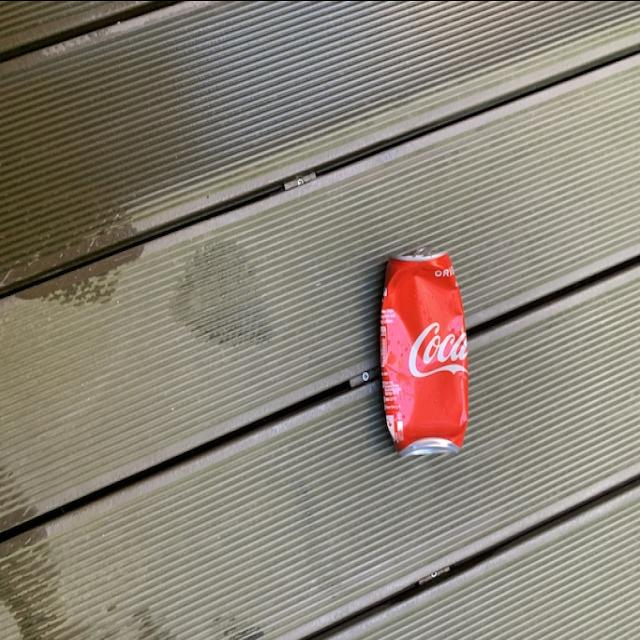Aluminum Can: (382, 250, 468, 458)
